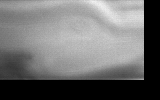cell: (57, 13, 101, 39), (67, 6, 98, 27), (70, 13, 90, 40), (73, 18, 94, 37), (70, 18, 89, 35)
